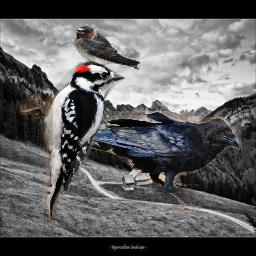Crow: (52, 111, 242, 212)
Swallow: (72, 25, 141, 70)
Woodpecker: (20, 62, 125, 219)
